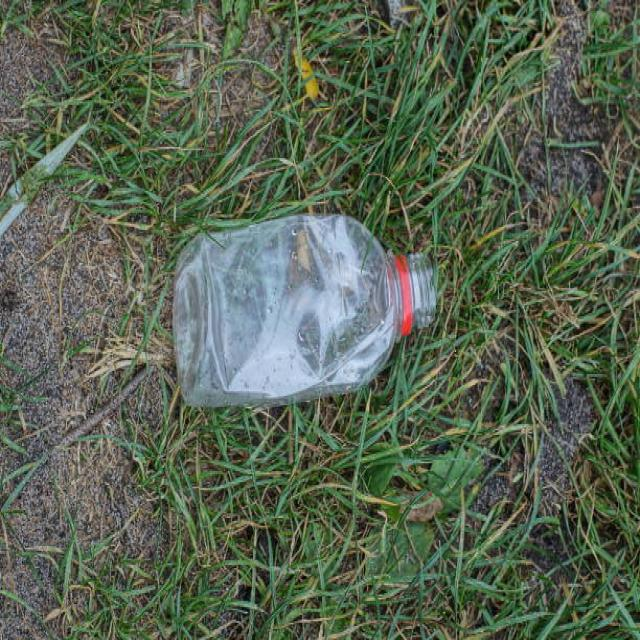plastic: (176, 217, 437, 403)
